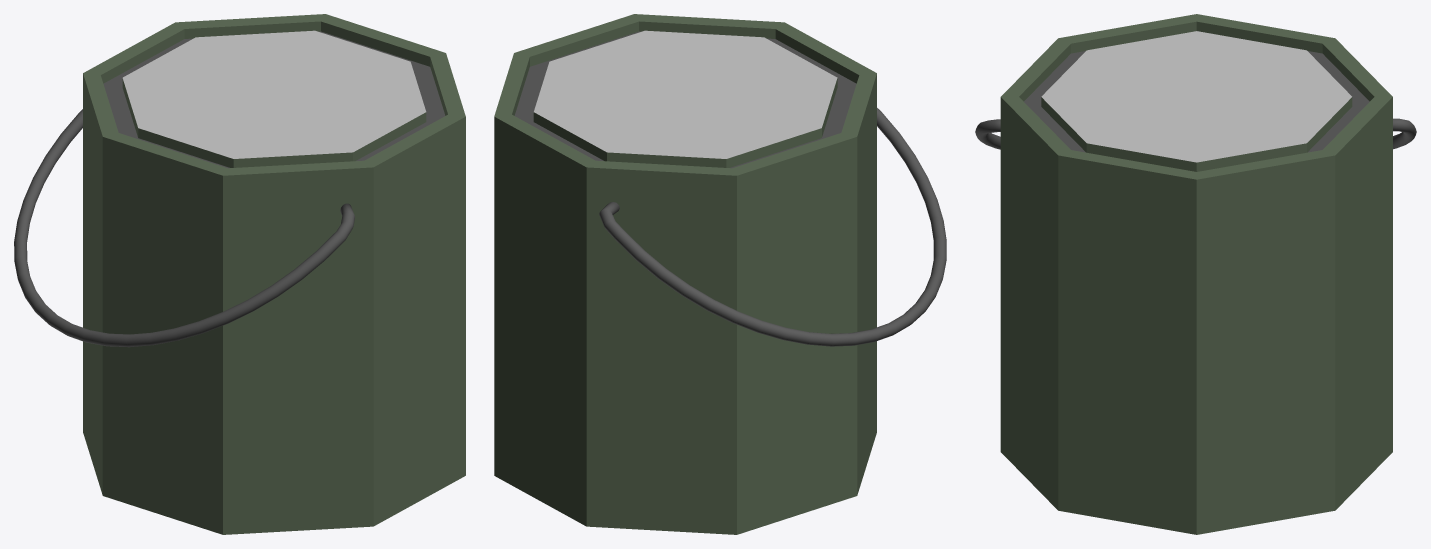
The model's file is low_poly_char.fbx.
3 renders of one model, left to right at view 1: azimuth 30°, elevation 25°; view 2: azimuth 150°, elevation 25°; view 3: azimuth 270°, elevation 25°, orthographic.
Visible parts, largest first — view 1: balde_pintura; view 2: balde_pintura; view 3: balde_pintura.
Boxes of the visible parts, box(x1,y1,x2,y2) form: balde_pintura: box(14, 14, 465, 534); balde_pintura: box(494, 14, 946, 534); balde_pintura: box(975, 14, 1416, 534).
Bounding box in the file's own units: 584 × 504 × 567.
